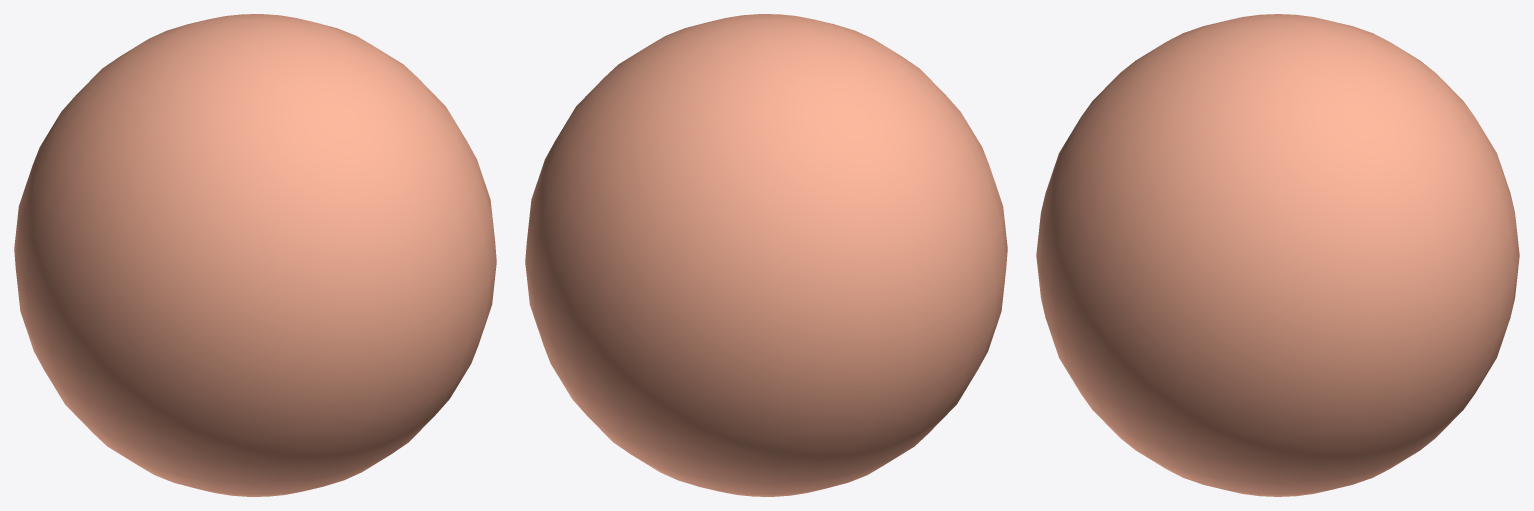
3 views of the same model, side by side, from view 1: azimuth 30°, elevation 25°; view 2: azimuth 150°, elevation 25°; view 3: azimuth 270°, elevation 25° (orthographic).
Parts seen in each view (by area): view 1: Sphere; view 2: Sphere; view 3: Sphere.
Part boxes in pixels (box(x1,y1,x2,y2)): Sphere: box(14, 14, 496, 496); Sphere: box(525, 14, 1007, 496); Sphere: box(1036, 14, 1519, 496).
Size of the model in its own units: 2 by 2 by 2.
